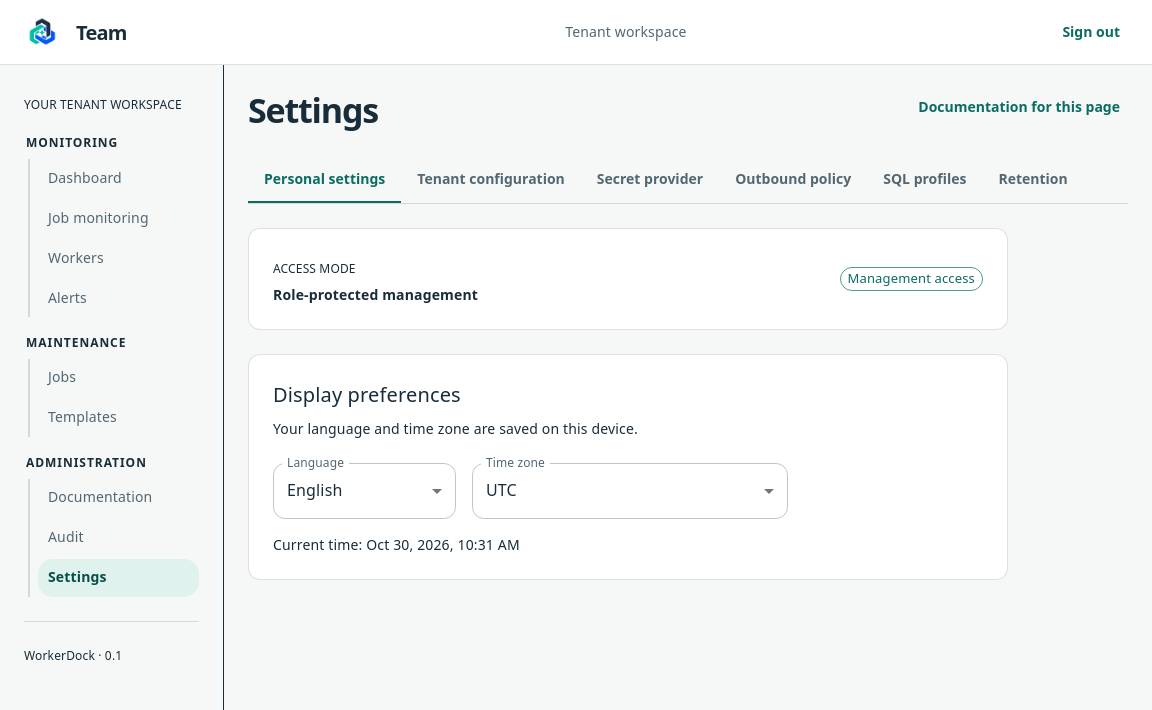
Profiles-tab contextual help opens the SQL profiles guide
What coordinates should you click on to do the following:
click the tab "SQL profiles"
I would click on:
 (925, 179)
Its box is [867, 155, 982, 203].
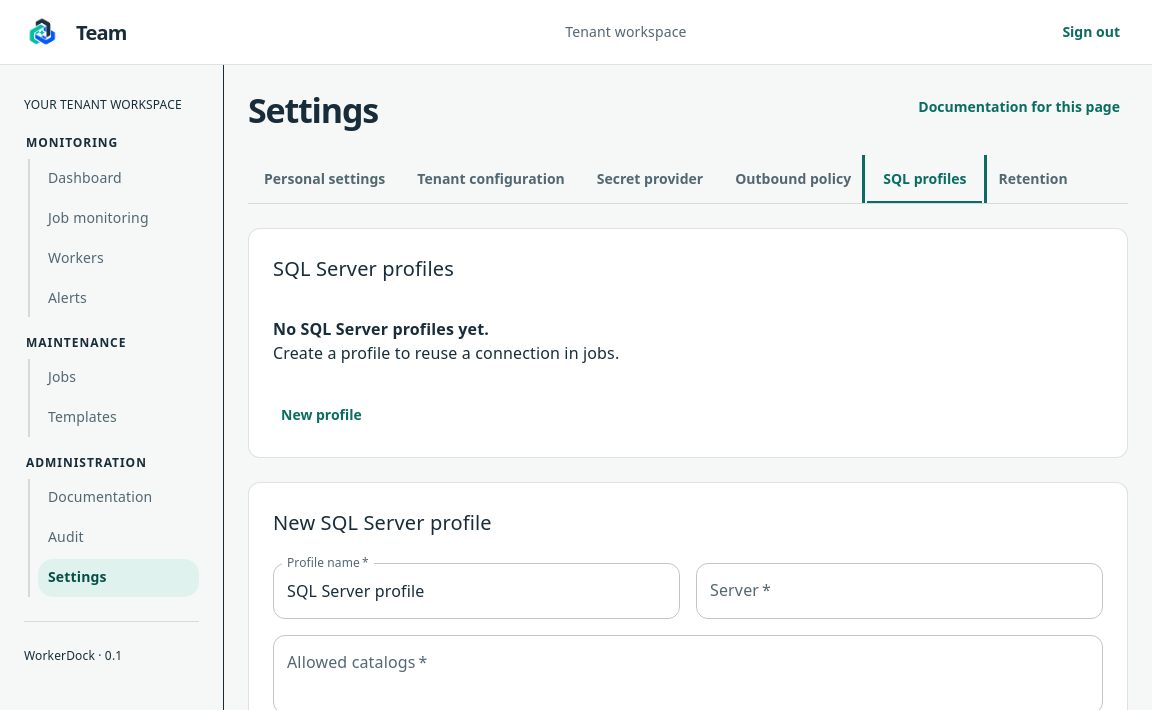
What coordinates should you click on to do the following:
click the button "Documentation for this page"
I would click on:
 (1019, 107)
Its box is [910, 89, 1128, 126].
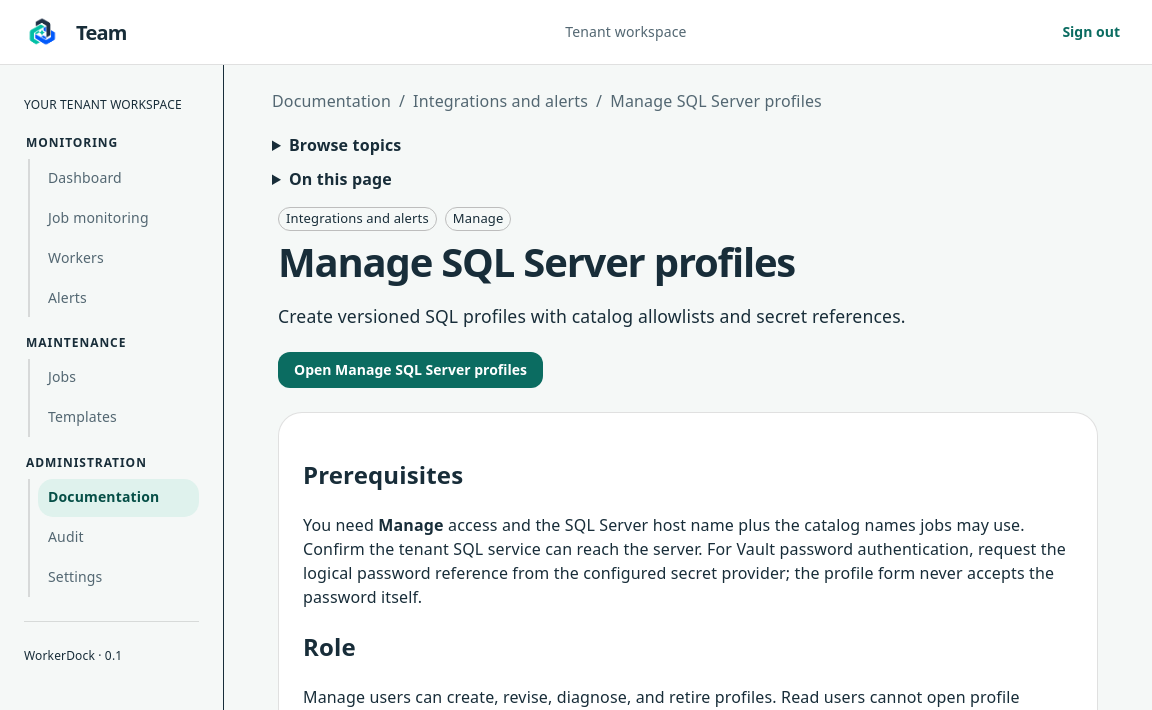
Now the heading "Manage SQL Server profiles" is shown, box [278, 234, 795, 289]
